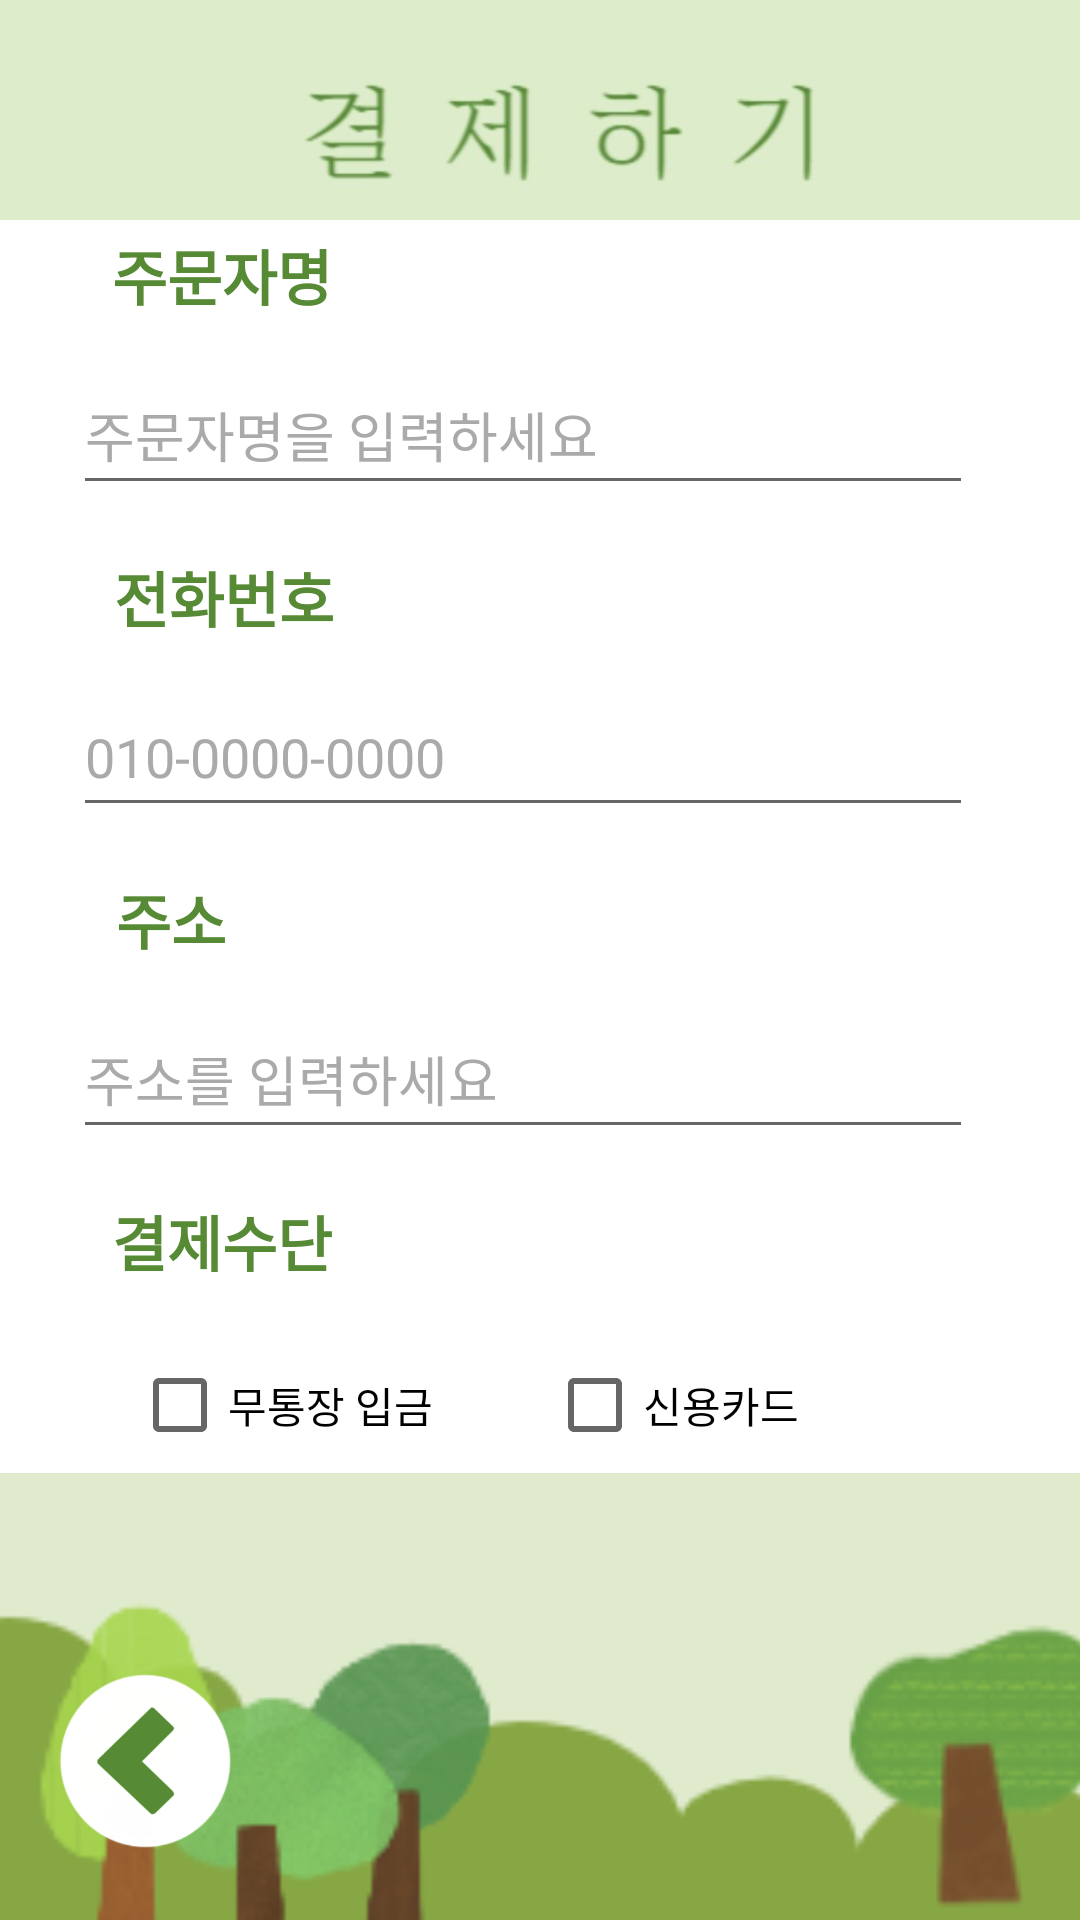

Where to tap for icons on this 1080*1920 app screen, as (x,y):
back: (145,1759)
